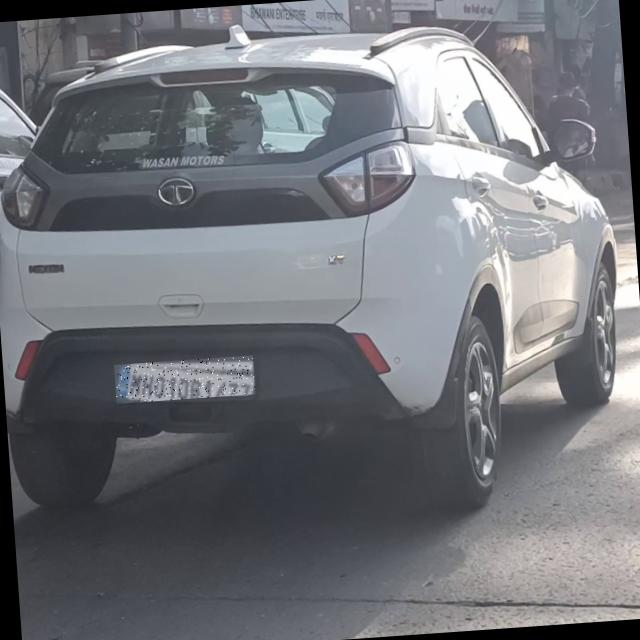Plate: (115, 356, 256, 405)
